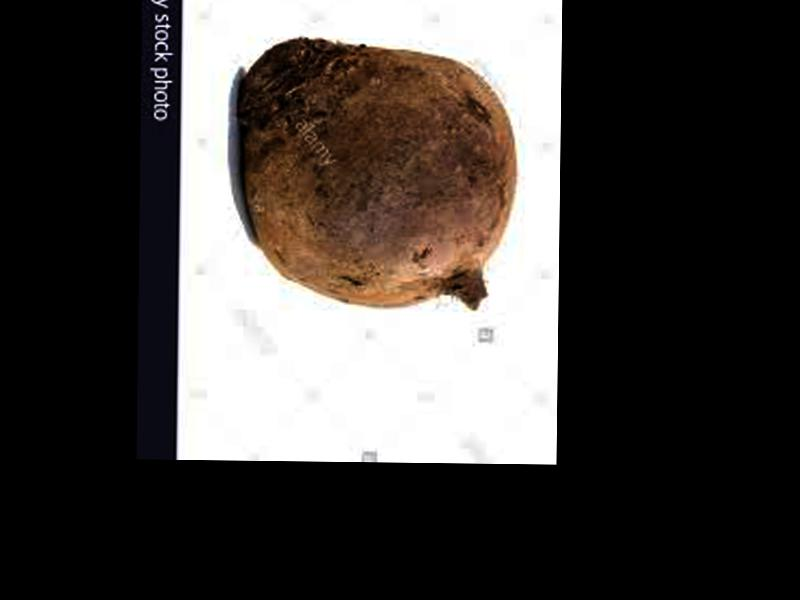Beet: (236, 39, 517, 311)
